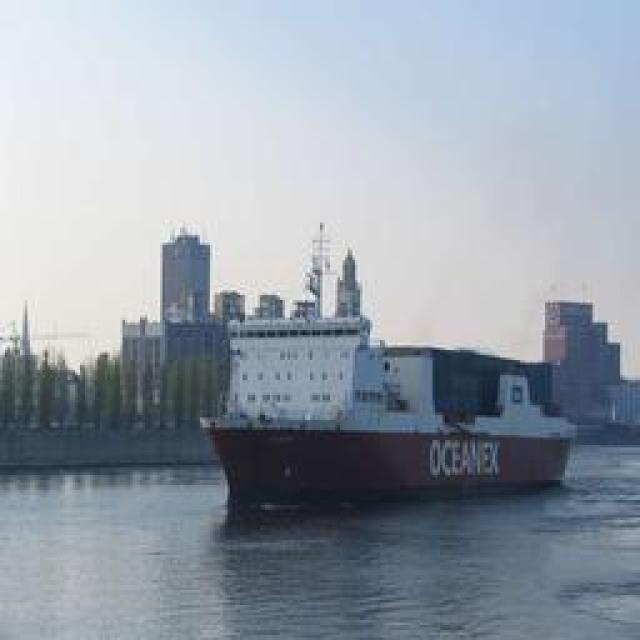ship: (205, 216, 577, 512)
